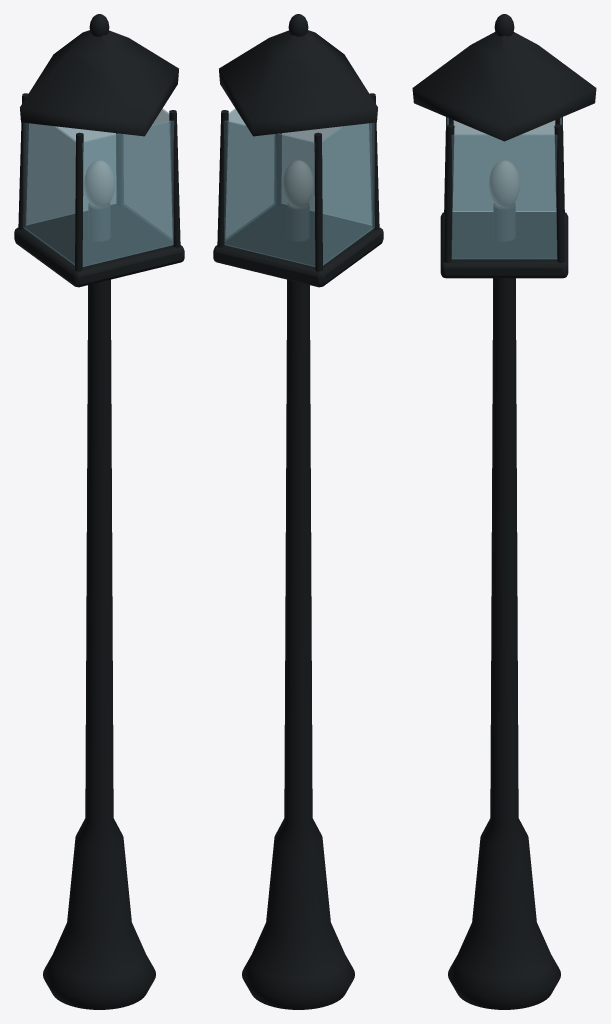
The model's file is LampPost.gltf.
The picture shows the model from 3 angles, left to right: view 1: azimuth 30°, elevation 25°; view 2: azimuth 150°, elevation 25°; view 3: azimuth 270°, elevation 25°; orthographic projection.
Visible parts, largest first — view 1: LampPost__Body, LampPost__Glass; view 2: LampPost__Body, LampPost__Glass; view 3: LampPost__Body, LampPost__Glass.
Part boxes in pixels (x1,y1,x2,y2): LampPost__Body: (14, 14, 184, 1009); LampPost__Glass: (23, 108, 173, 266); LampPost__Body: (213, 14, 383, 1009); LampPost__Glass: (224, 108, 374, 266); LampPost__Body: (412, 14, 596, 1009); LampPost__Glass: (447, 117, 561, 259).
Size of the model in its own units: 0.364 by 2.13 by 0.364.
Materials: 2 (1 with a texture image).
